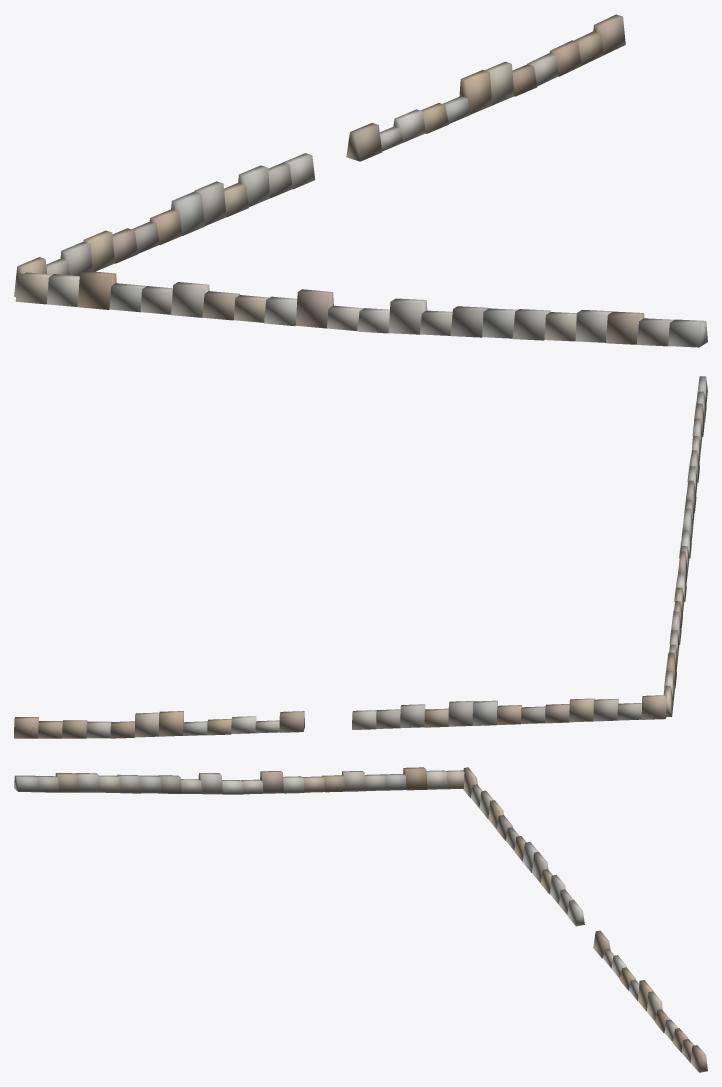
The model's file is farm_-11_-11_collision.glb.
3 renders of one model, top to bottom at view 1: azimuth 30°, elevation 25°; view 2: azimuth 150°, elevation 25°; view 3: azimuth 270°, elevation 25°, orthographic. The views are drawn at different scales.
Parts seen in each view (by area): view 1: geometry_0; view 2: geometry_0; view 3: geometry_0.
Boxes of the visible parts, x1,y1,x2,y2 form: geometry_0: [14, 14, 707, 347]; geometry_0: [14, 376, 707, 738]; geometry_0: [14, 767, 707, 1072].
Bounding box in the file's own units: 39.24 × 11.69 × 48.17.
